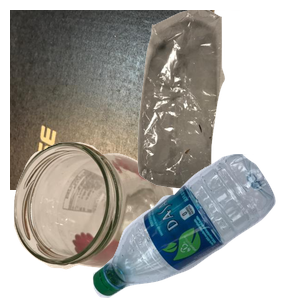cardboard: (10, 10, 217, 190)
glass: (11, 139, 179, 300)
plastic: (90, 154, 300, 300)
trash: (114, 10, 300, 190)
